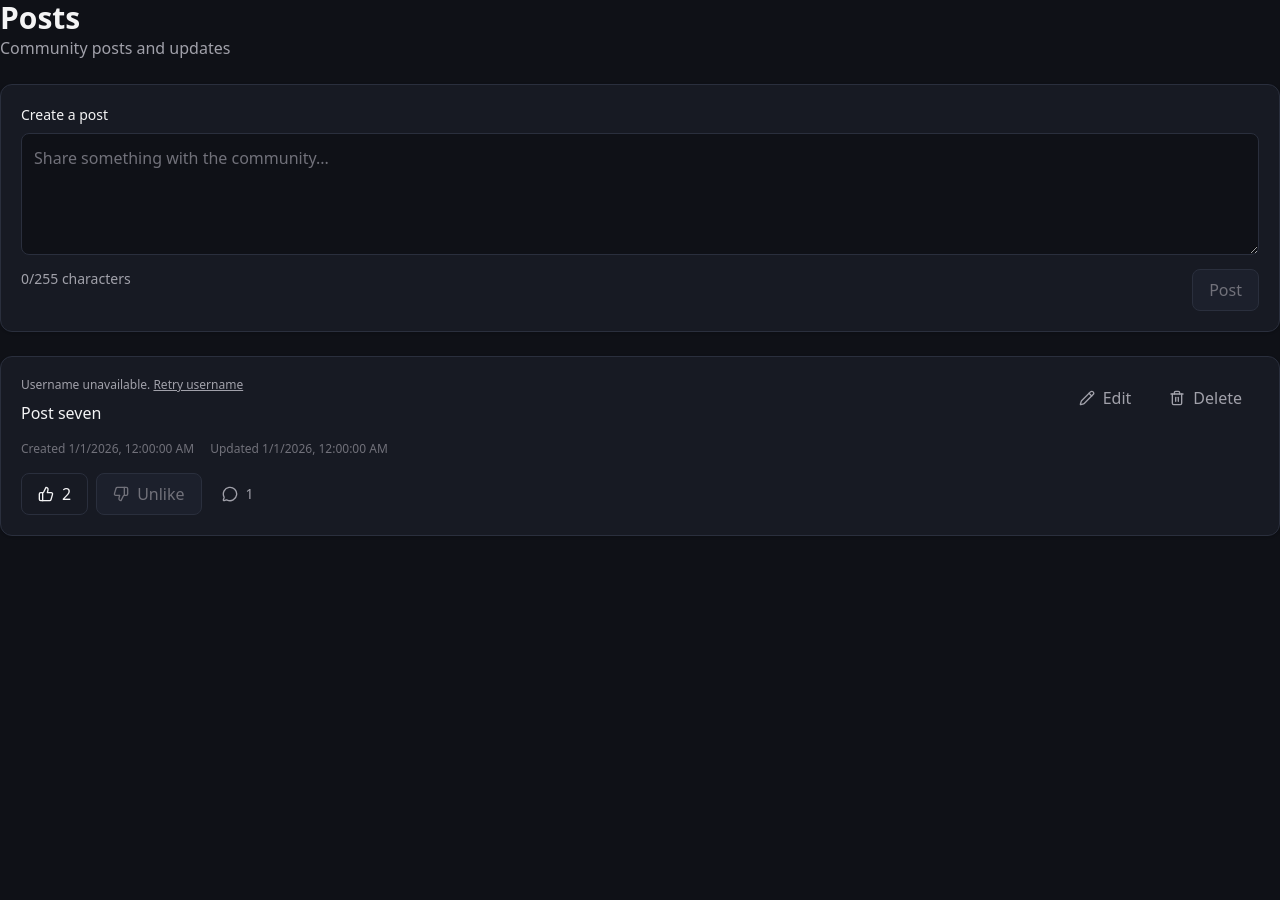
post pagination and errors › keeps post mutation 403 errors in the dialog
The width and height of the screenshot is (1280, 900).
Click the button with aria-label "Delete post 7" at [1206, 398], box [1152,377,1259,419]
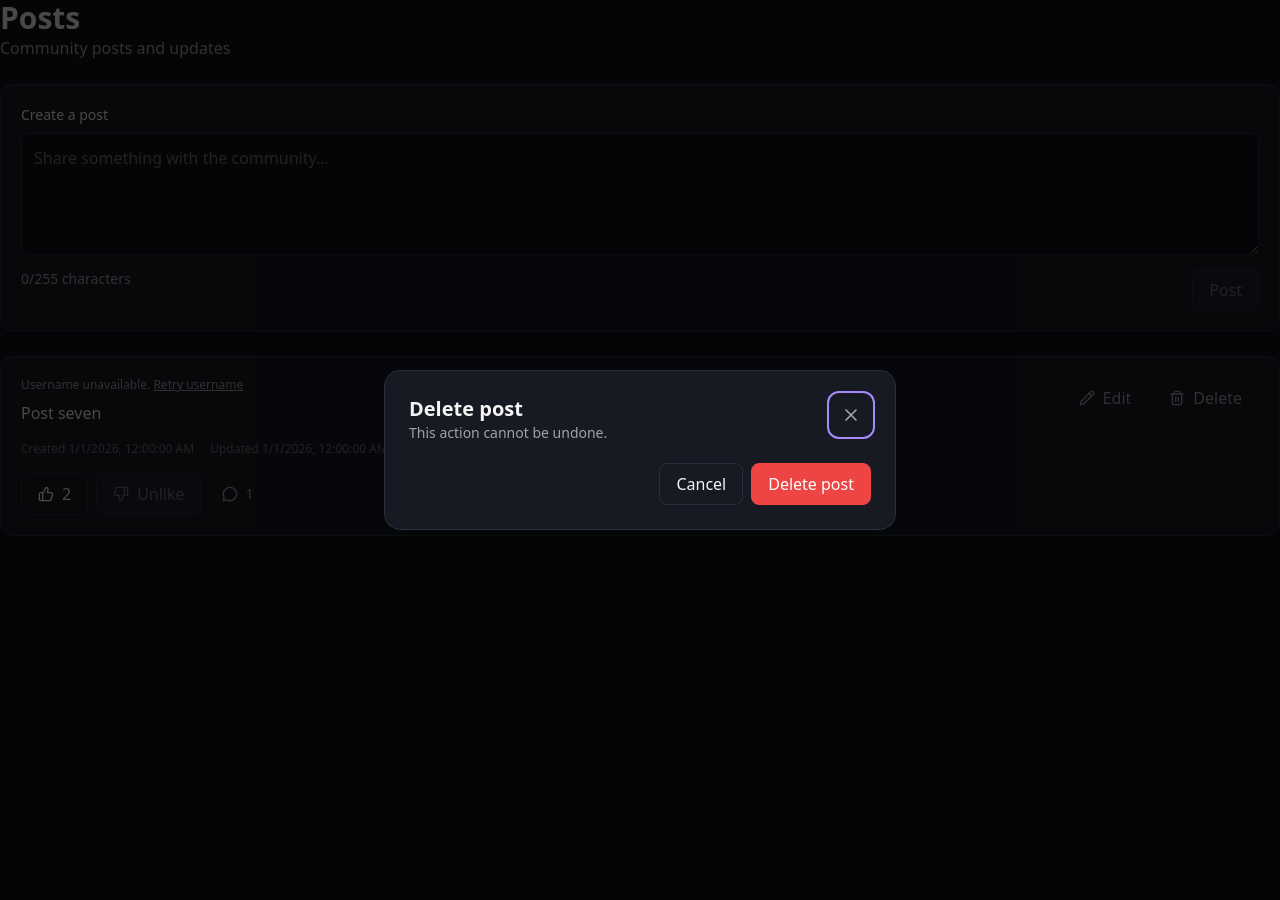
Click the button "Delete post" at [811, 484], box [751,463,871,505]
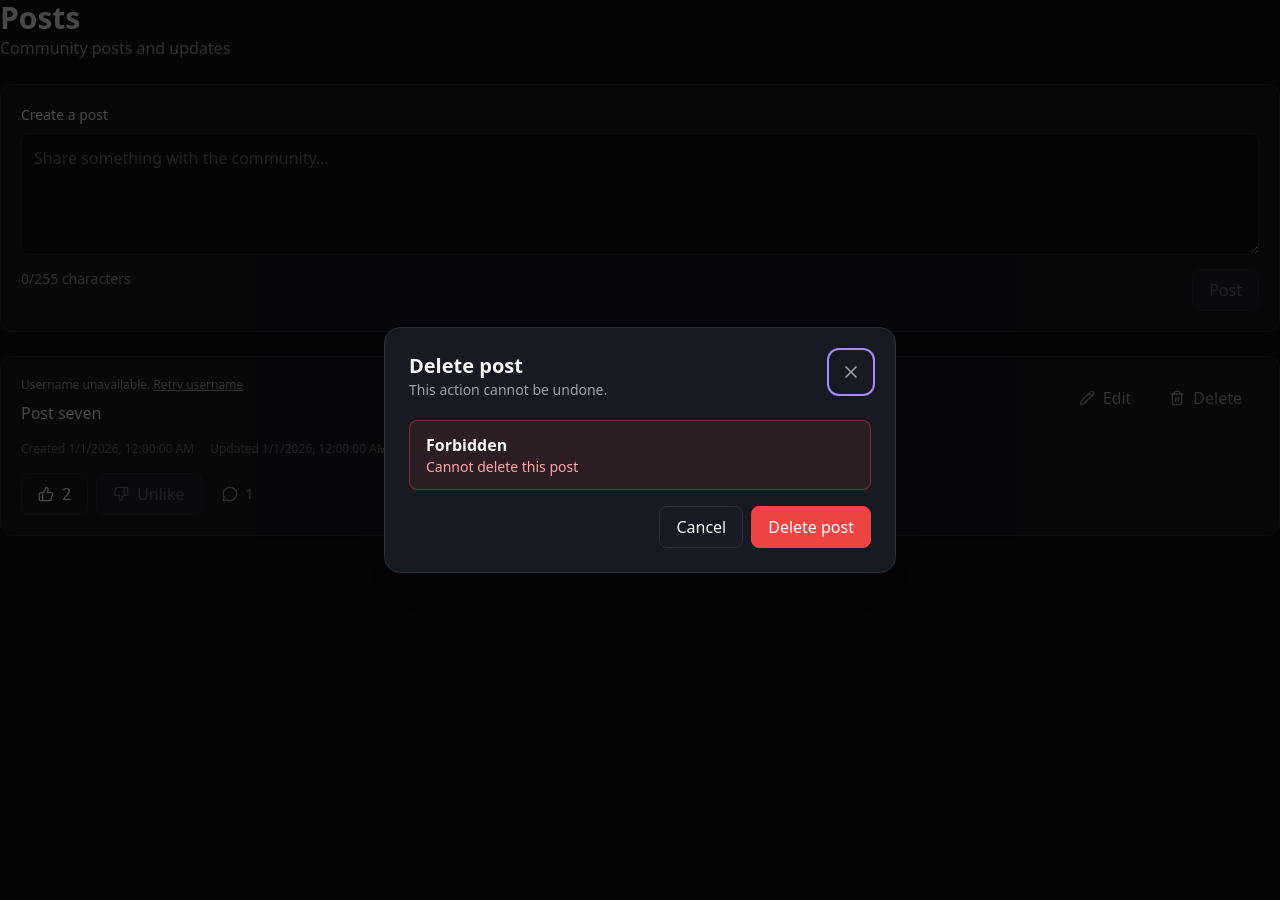
Check: the link "Post seven" is shown, box [21,402,101,424]
Check: the message shows "Forbidden", box [426,434,507,456]
Check: the message shows "Cannot delete this post", box [426,457,578,476]
